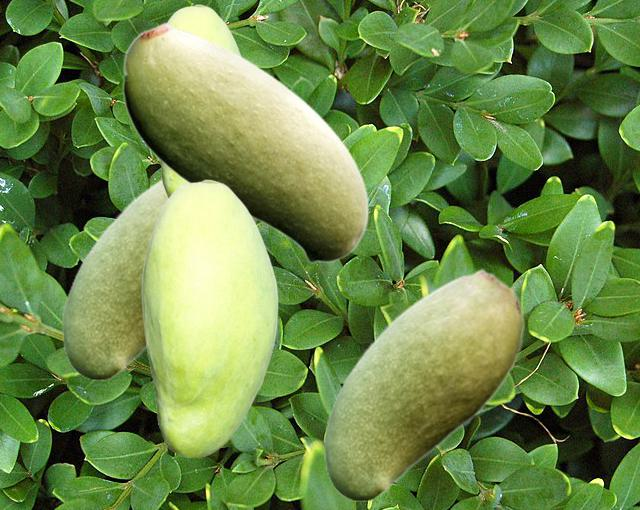green_mango: (122, 21, 368, 263), (323, 268, 523, 500), (61, 176, 257, 379), (141, 179, 277, 457), (158, 4, 240, 197)
